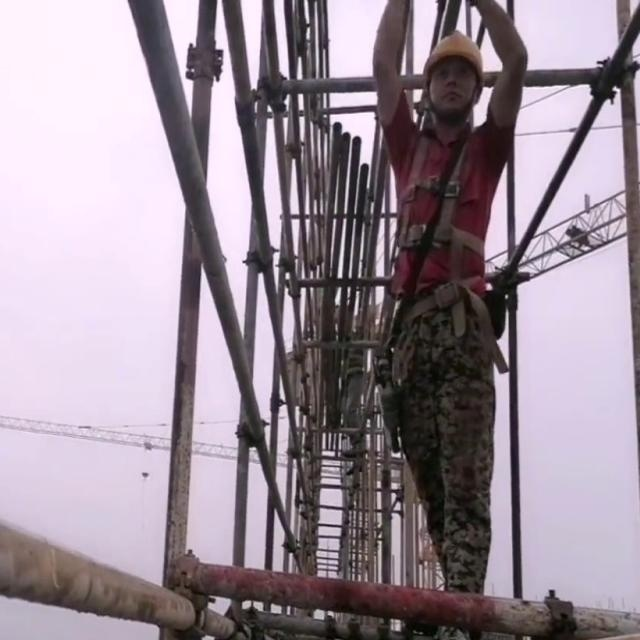Arnes_seguridad: (386, 112, 498, 270)
